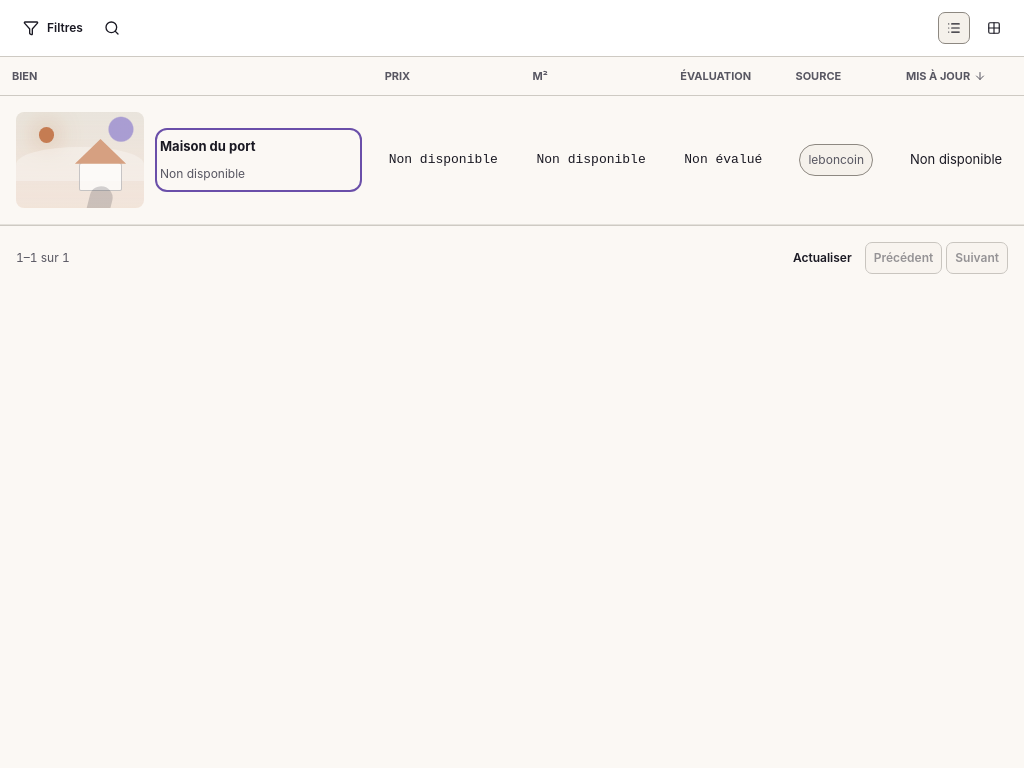
Test case: PropertiesView › returns keyboard focus to the selected row after closing the dossier
Click the button "Maison du port Non disponible": (258, 160) [160,133,357,187]
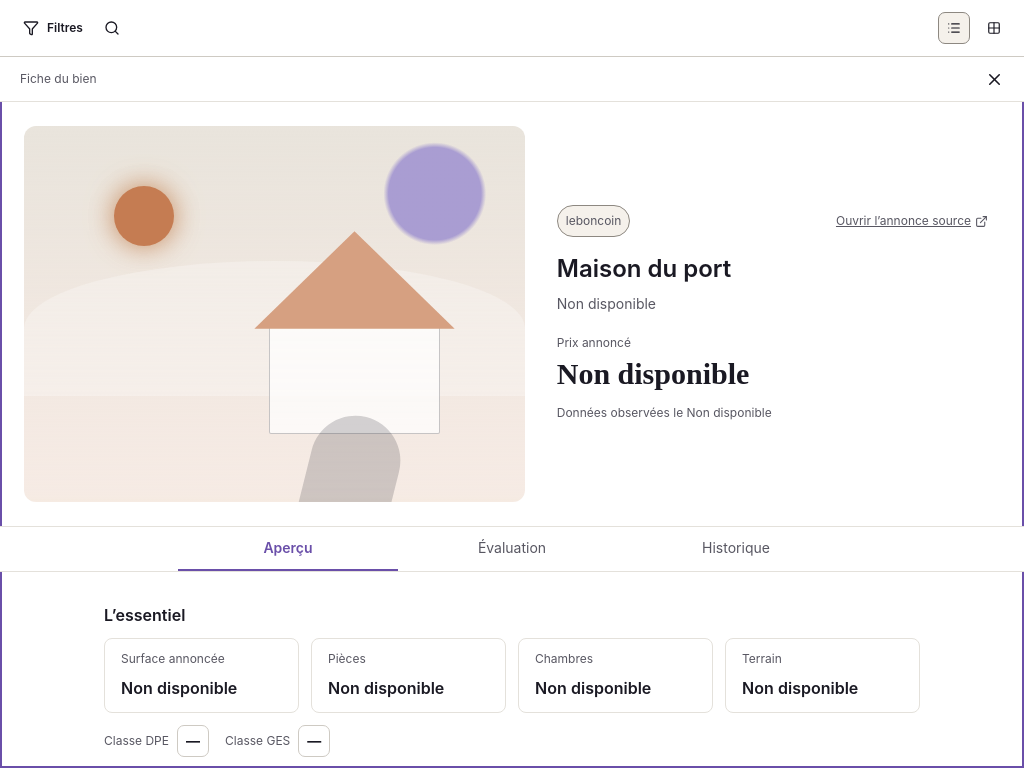
Press Escape in the element "Fiche du bien"
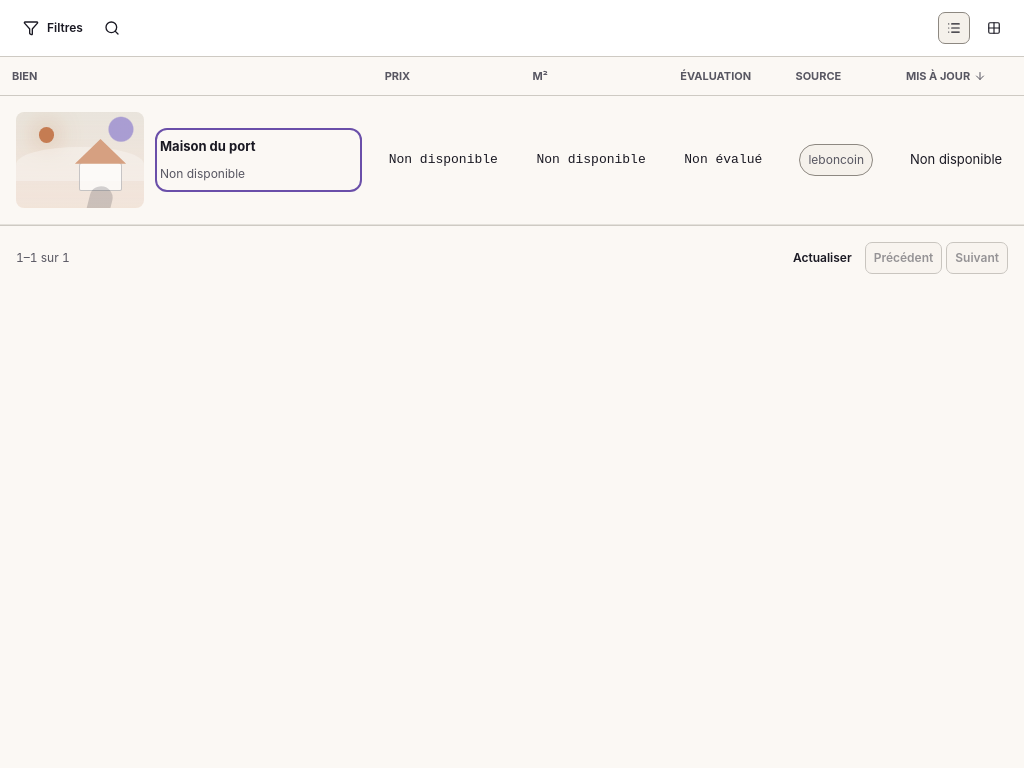
Check: the text "Fiche du bien" is gone
